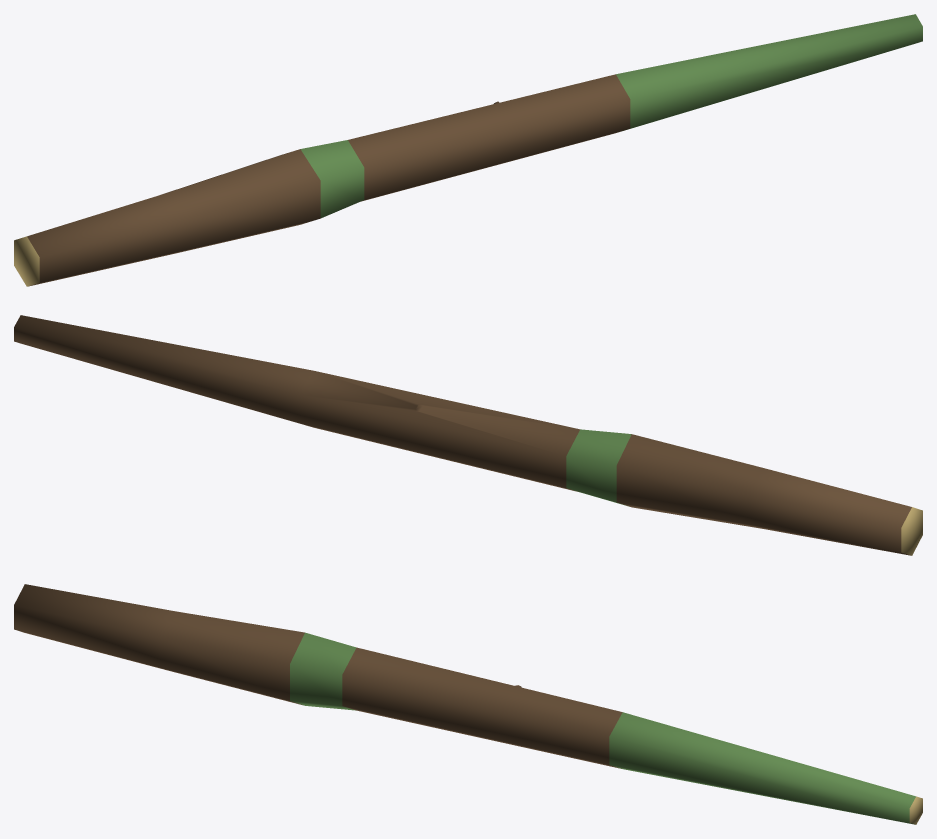
The model's file is twig.glb.
3 views of the same model, one above another, from view 1: azimuth 30°, elevation 25°; view 2: azimuth 150°, elevation 25°; view 3: azimuth 330°, elevation 25° (orthographic). The views are drawn at different scales.
Parts seen in each view (by area): view 1: twig; view 2: twig; view 3: twig.
Part boxes in pixels (x1,y1,x2,y2): twig: (14, 14, 922, 286); twig: (14, 315, 922, 555); twig: (14, 584, 922, 824).
Bounding box in the file's own units: 0.09 × 0.00719 × 0.00699.
